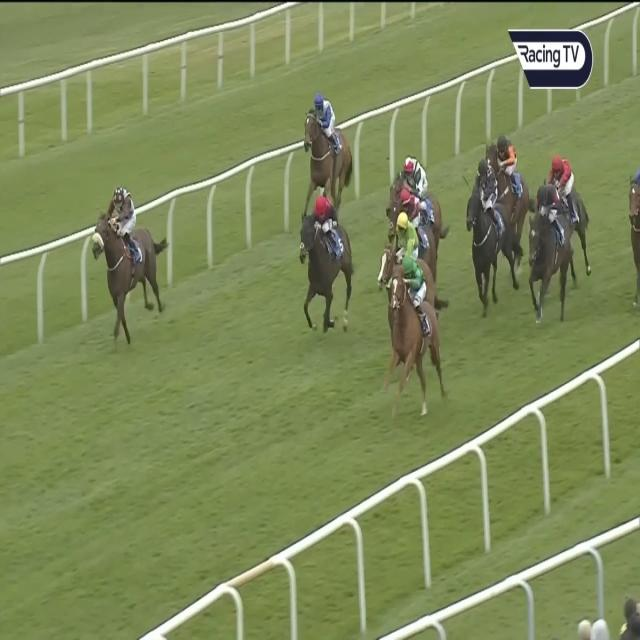horses-racing: (89, 188, 171, 326), (291, 195, 353, 321), (391, 255, 444, 398), (527, 180, 571, 312), (297, 93, 355, 193), (466, 155, 504, 298), (486, 132, 531, 212), (546, 148, 588, 220), (382, 213, 427, 278), (391, 153, 442, 202), (386, 191, 437, 230), (627, 166, 640, 312)
